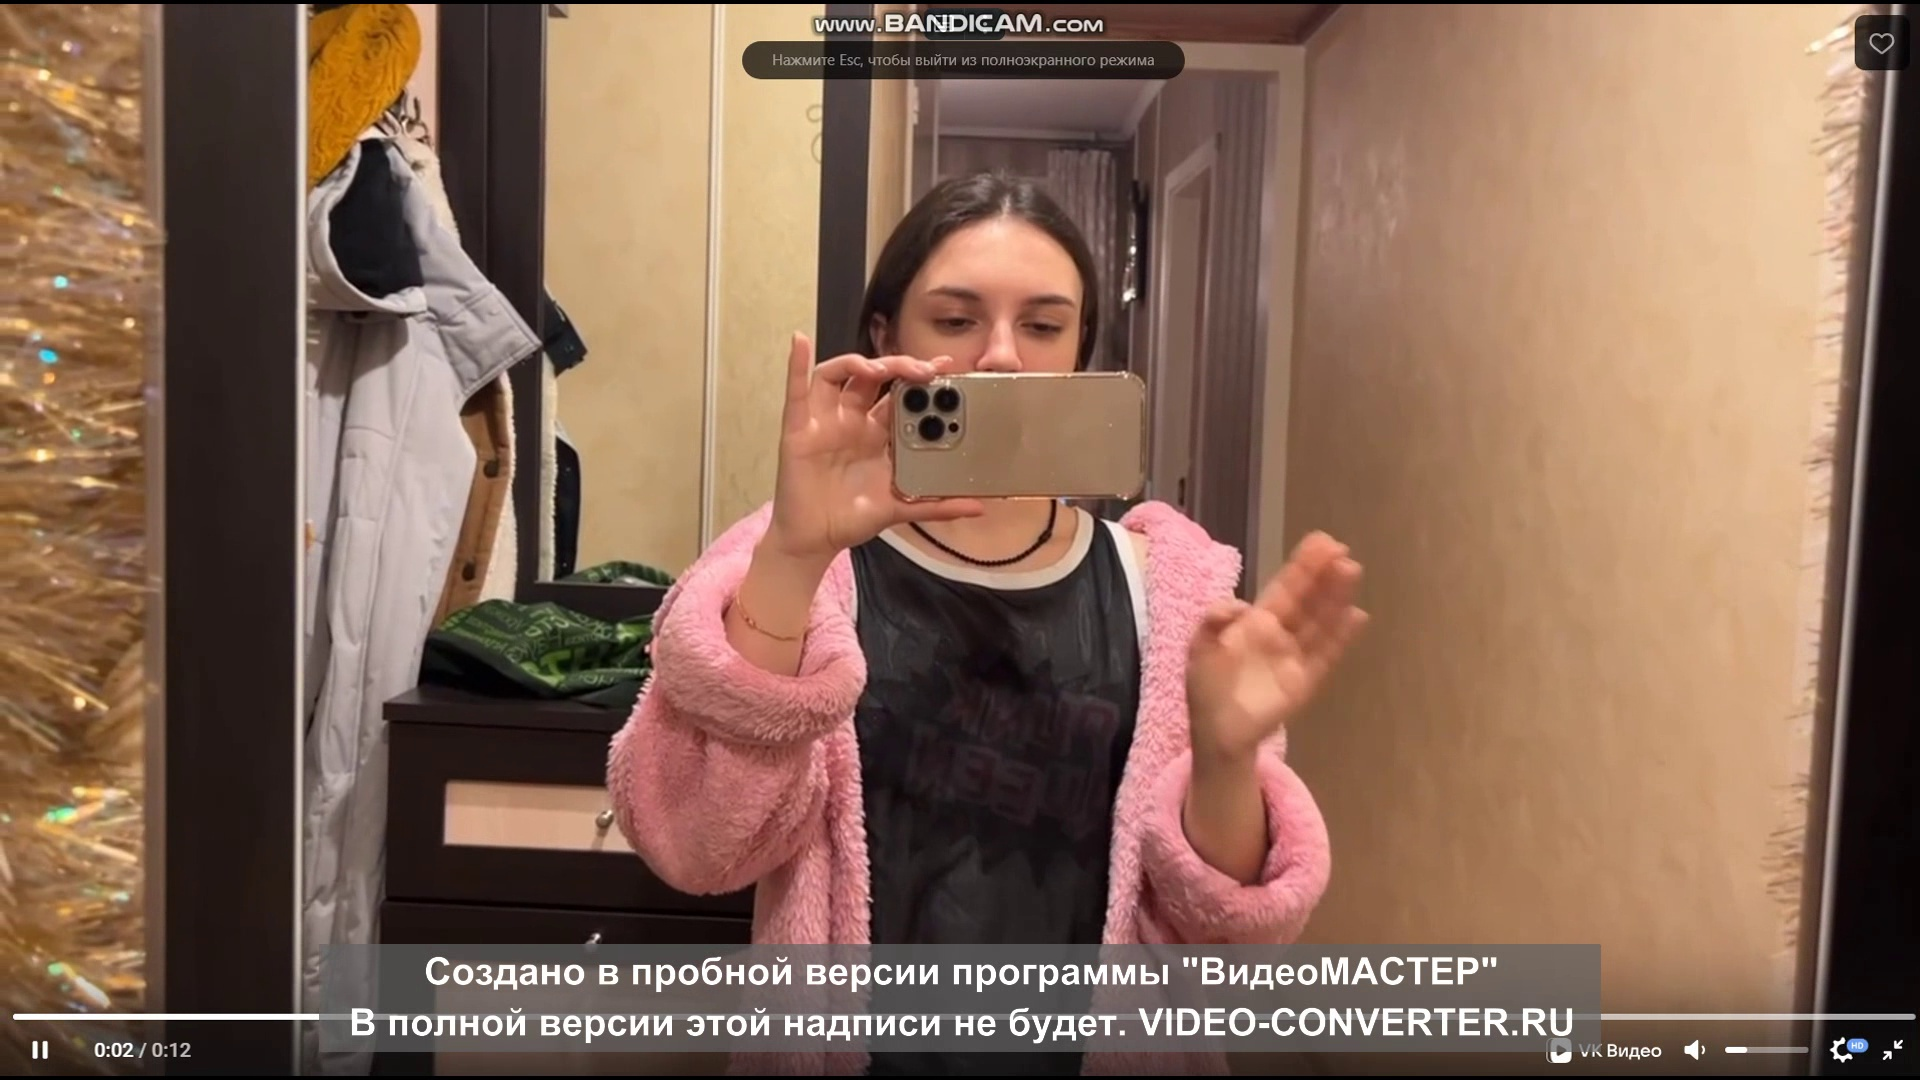Ладонь: (1179, 525, 1378, 754)
